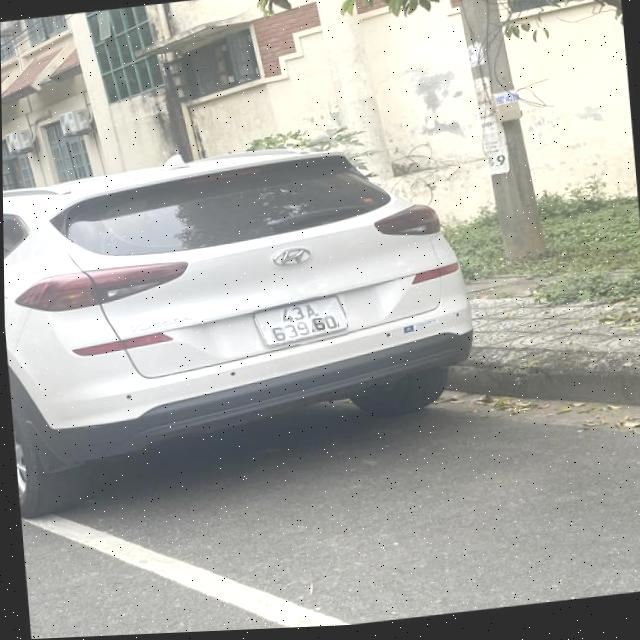car: (10, 140, 471, 488)
plate: (247, 292, 354, 353)
